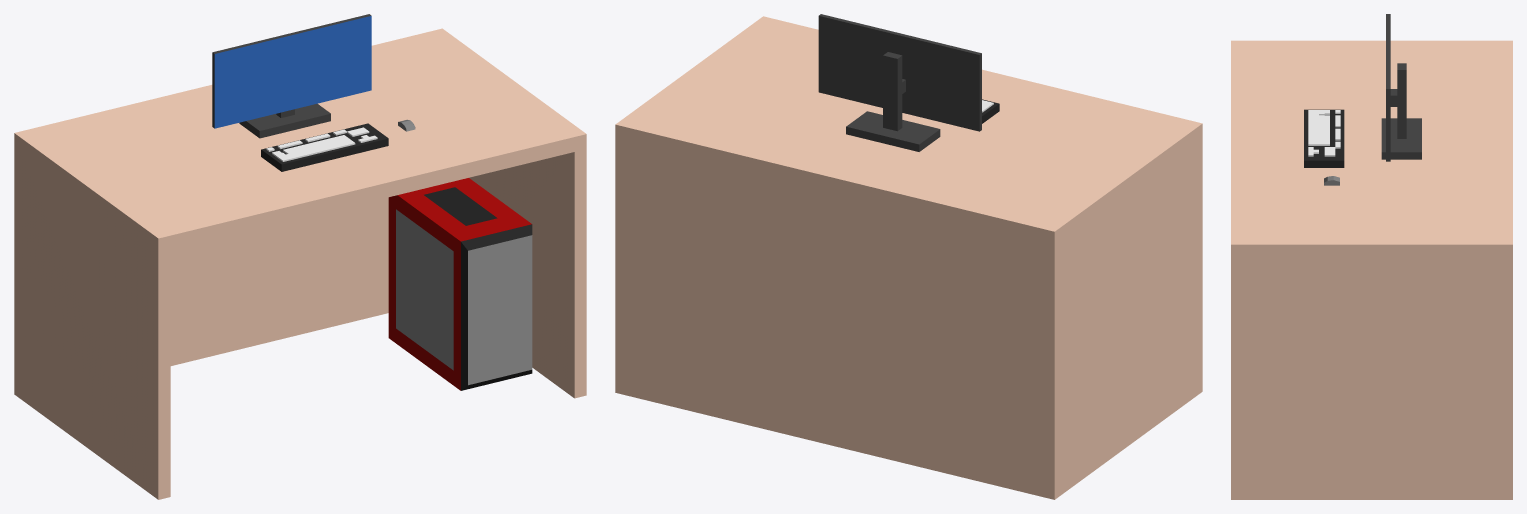
The model's file is ComputerDesk.fbx.
The picture shows the model from 3 angles, left to right: view 1: azimuth 30°, elevation 25°; view 2: azimuth 150°, elevation 25°; view 3: azimuth 270°, elevation 25°; orthographic projection. The views are drawn at different scales.
Parts seen in each view (by area): view 1: Desk, PC, Monitor, Keyboard; view 2: Desk, Monitor; view 3: Desk, Monitor, Keyboard.
Part boxes in pixels (x1,y1,x2,y2): Desk: [14, 28, 586, 499]; PC: [388, 178, 532, 390]; Monitor: [212, 14, 371, 138]; Keyboard: [261, 123, 388, 171]; Desk: [615, 16, 1202, 499]; Monitor: [818, 14, 981, 151]; Desk: [1231, 40, 1512, 499]; Monitor: [1381, 14, 1421, 161]; Keyboard: [1304, 109, 1344, 167].
Size of the model in its own units: 120 by 95 by 70.
